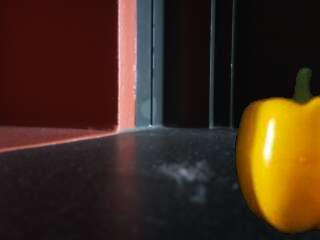Capsicum: (237, 65, 320, 233)
